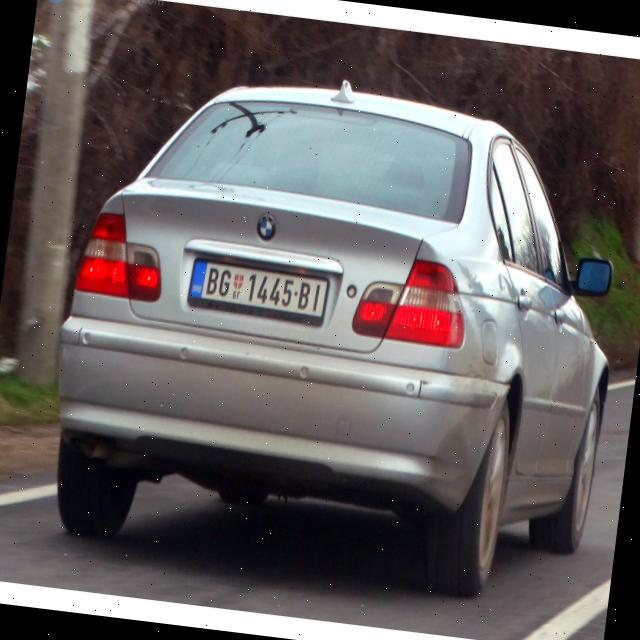License-plate: (188, 256, 332, 324)
